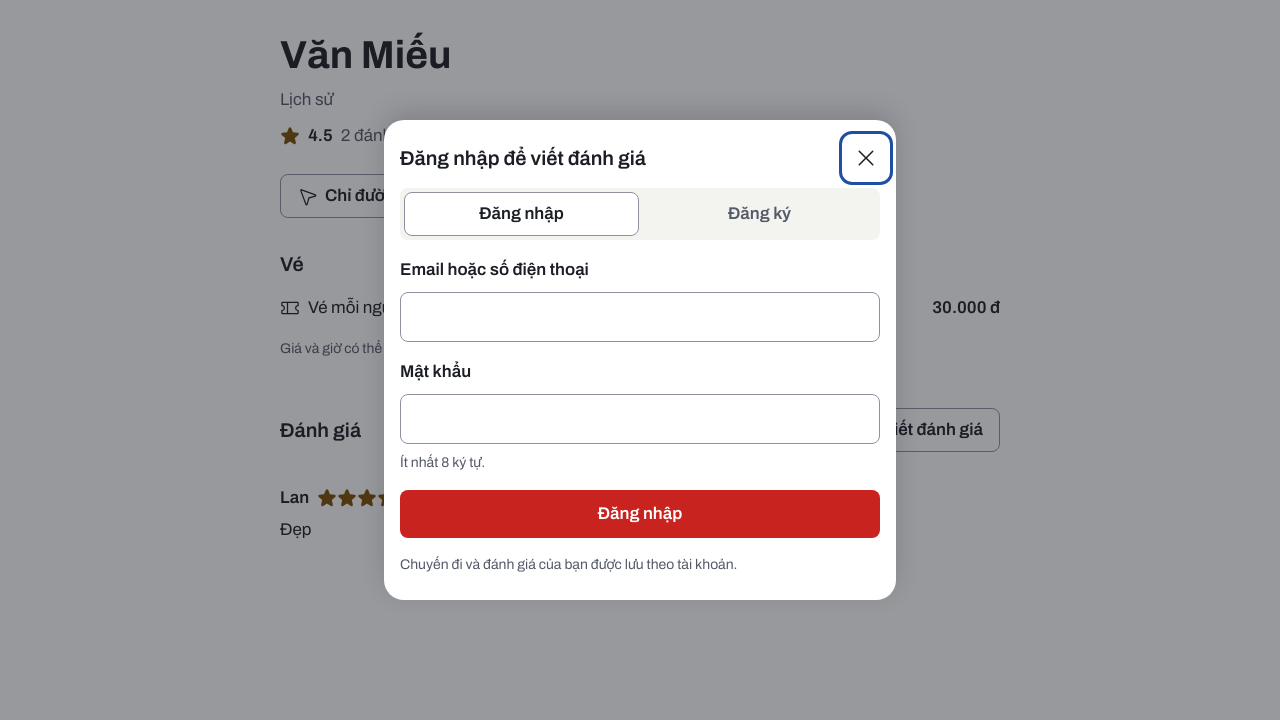
Test case: place and reviews › asks to sign in before writing a review, then returns to the form
This screenshot has width=1280, height=720.
Earlier steps of the test are not shown.
Type "m@example.com" into the field labelled "Email hoặc số điện thoại" at x=640, y=317, box [400,292,880,342]
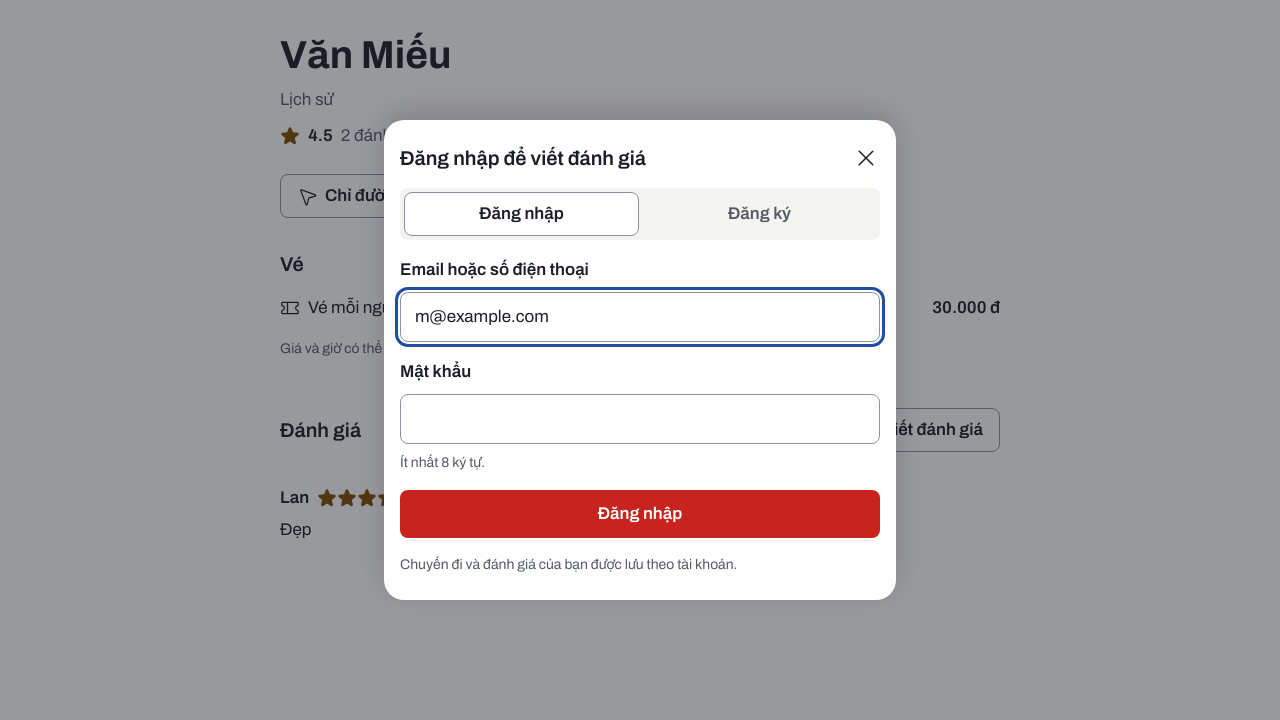
Type "password123" into the password field labelled "Mật khẩu" at x=640, y=419, box [400,394,880,444]
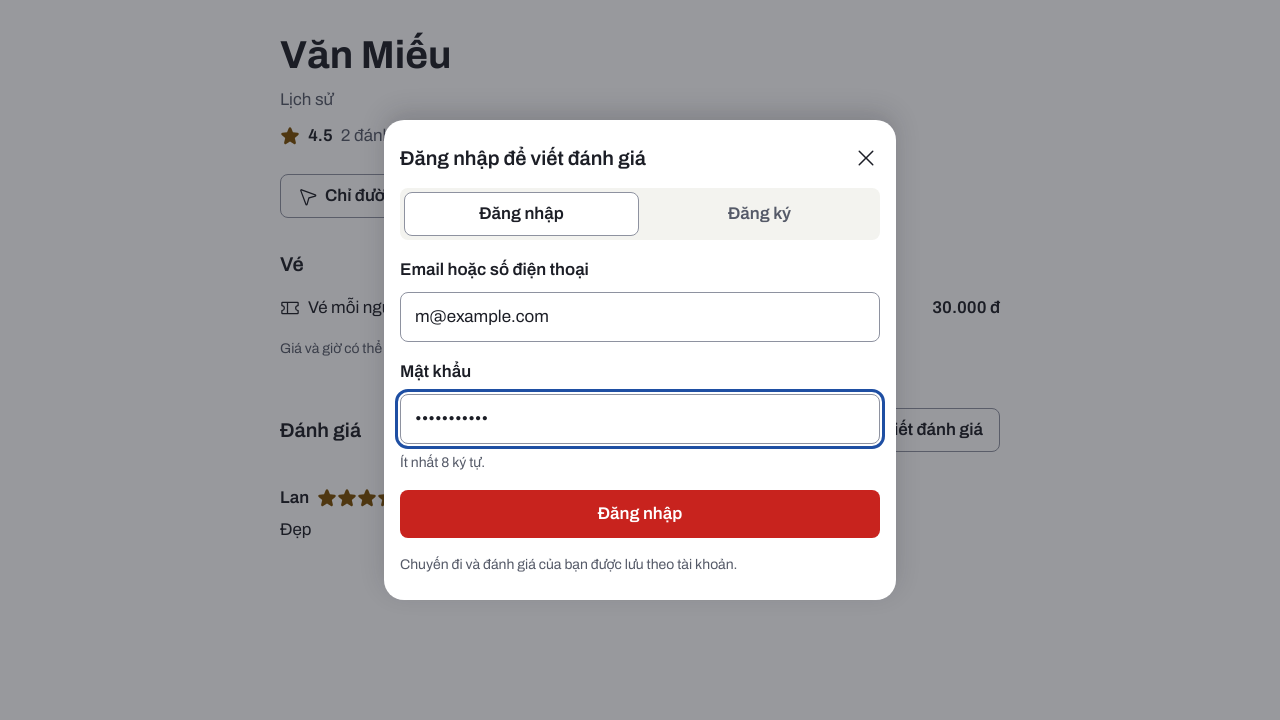
Click the button "Đăng nhập" at x=640, y=514, box [400,490,880,538]
(page scrolled)
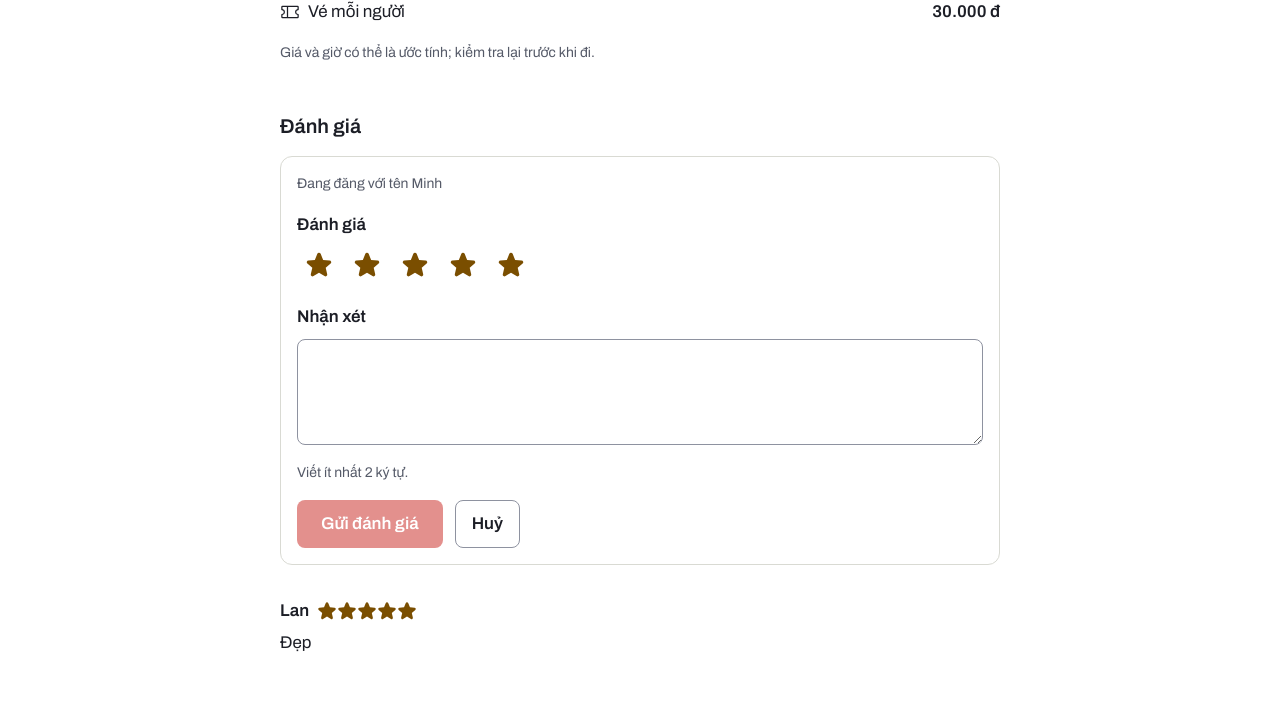
Type "Rất đáng ghé" into the text box labelled "Nhận xét" at x=640, y=392, box [297,339,983,445]
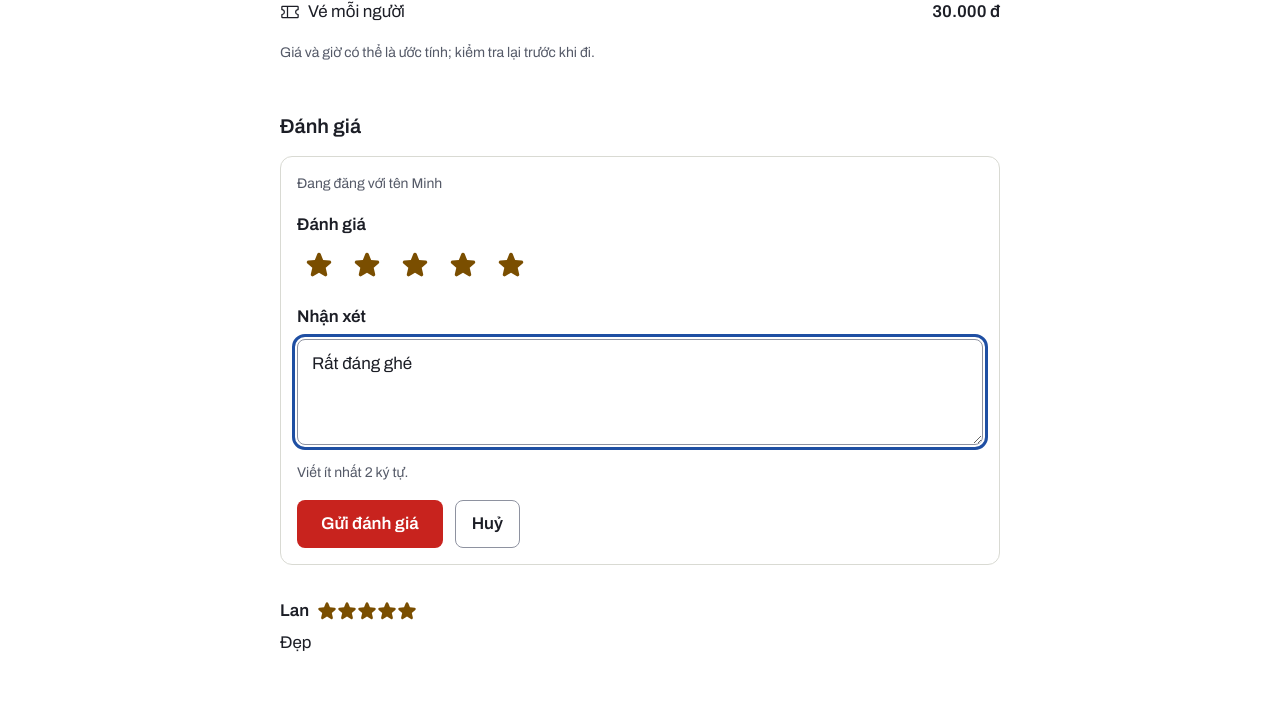
Click the radio button named "4 sao" at x=463, y=265, box [441,243,485,287]
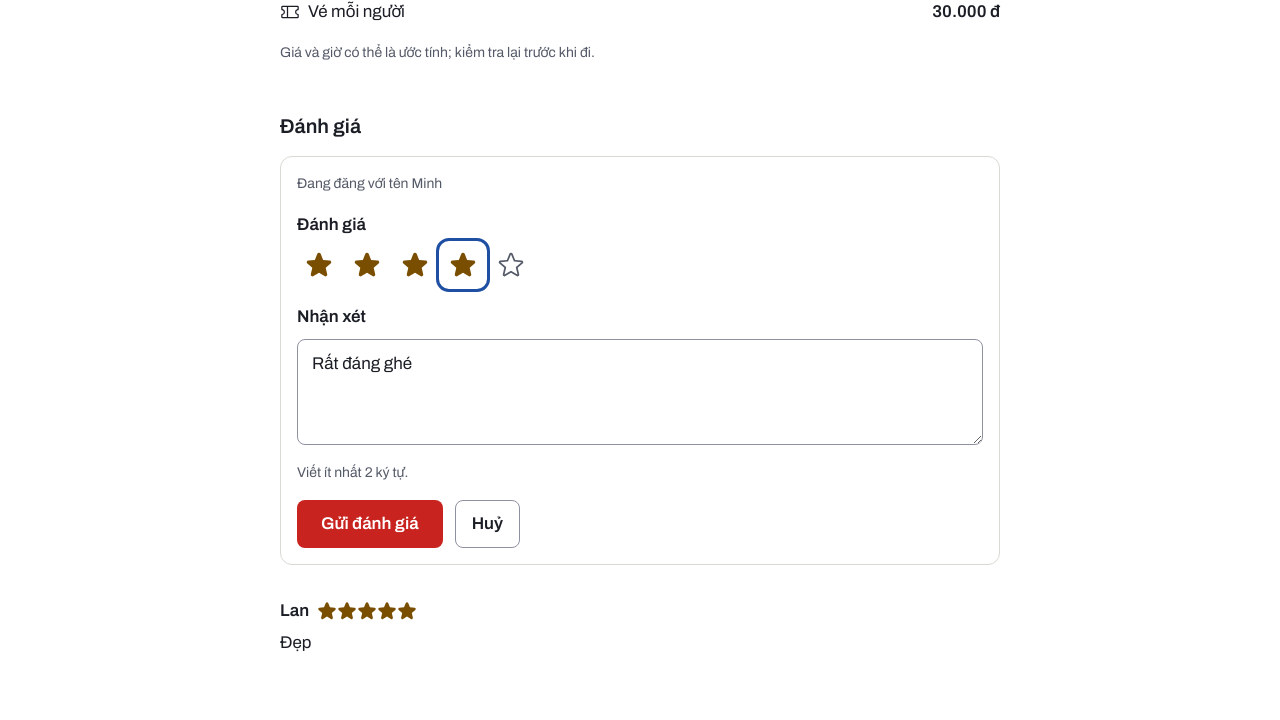
Click the button "Gửi đánh giá" at x=370, y=524, box [297,500,443,548]
(page scrolled)
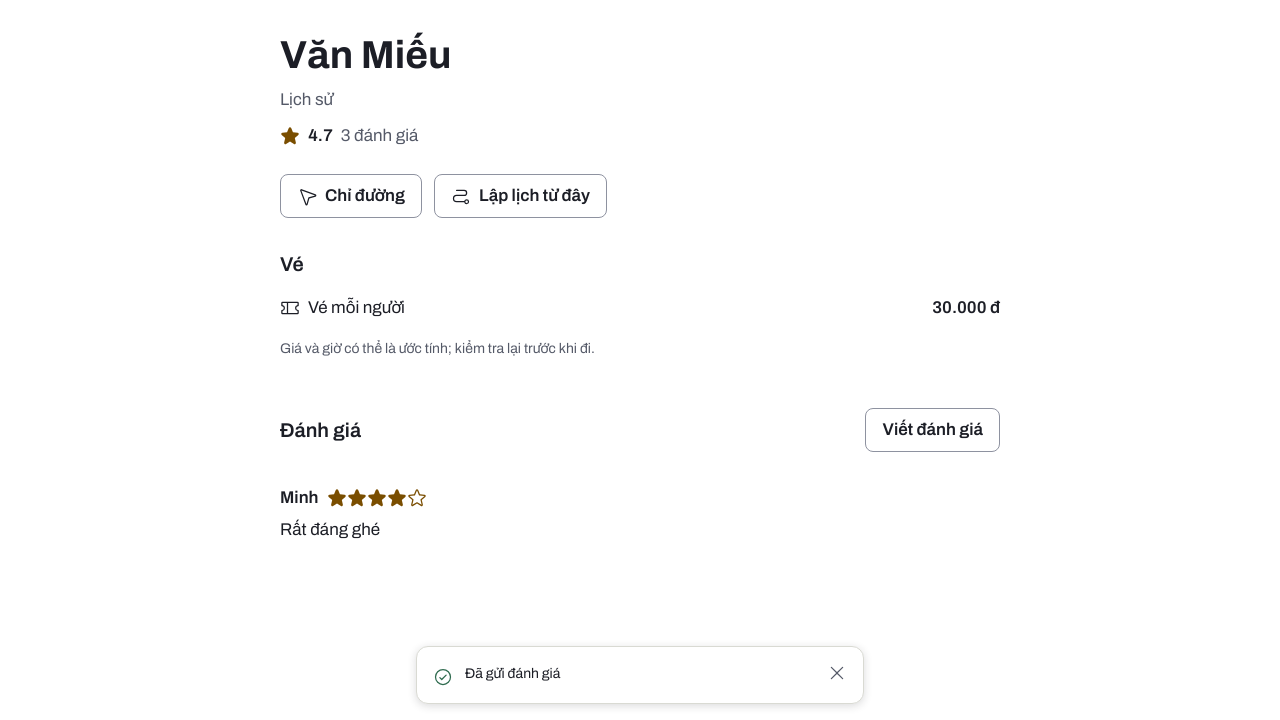
Expected: the text "Đã gửi đánh giá" is shown, [465,666,560,681]
